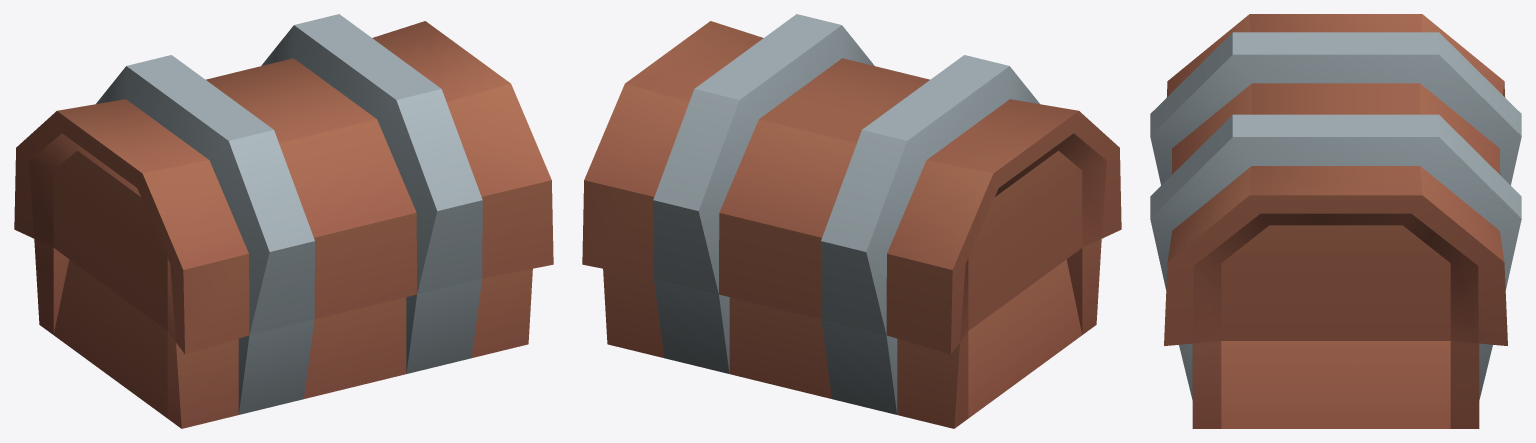
Rendered from trunk_large_C.obj.
3 views of the same model, side by side, from view 1: azimuth 30°, elevation 25°; view 2: azimuth 150°, elevation 25°; view 3: azimuth 270°, elevation 25° (orthographic).
Parts seen in each view (by area): view 1: trunk_large_C; view 2: trunk_large_C; view 3: trunk_large_C.
Part boxes in pixels (x1=…): trunk_large_C: x1=14, y1=14, x2=553, y2=428; trunk_large_C: x1=582, y1=14, x2=1121, y2=428; trunk_large_C: x1=1150, y1=14, x2=1521, y2=428.
Size of the model in its own units: 1.5 by 1 by 1.3.
1 material, 1 textured.
